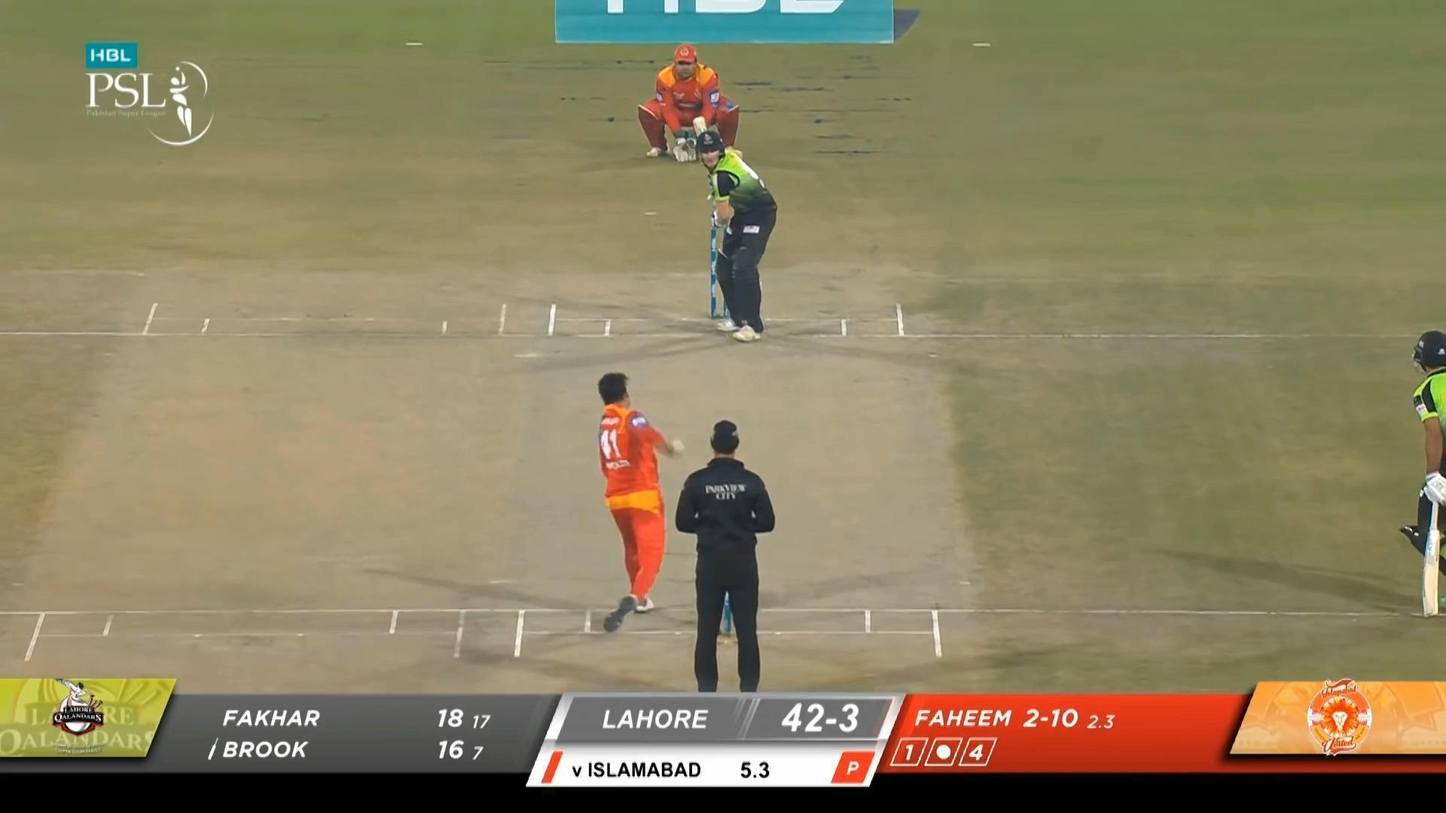BM 1: (692, 116, 777, 342)
BO: (593, 366, 689, 615)
